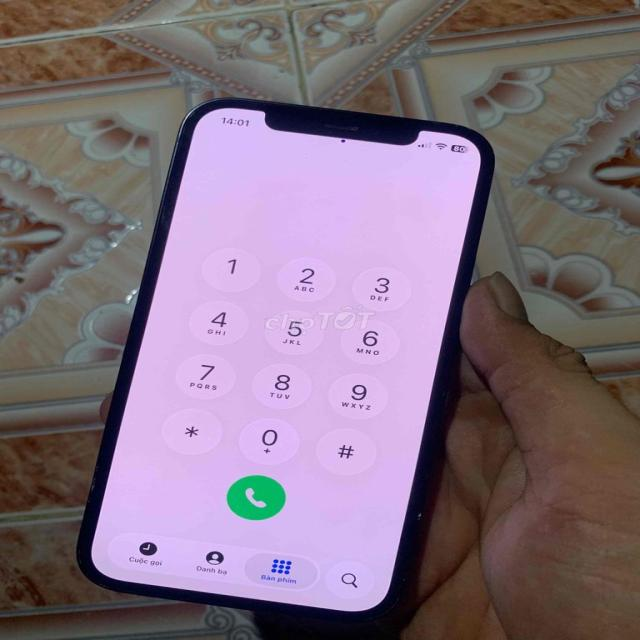gen_12_13: (77, 92, 494, 620)
